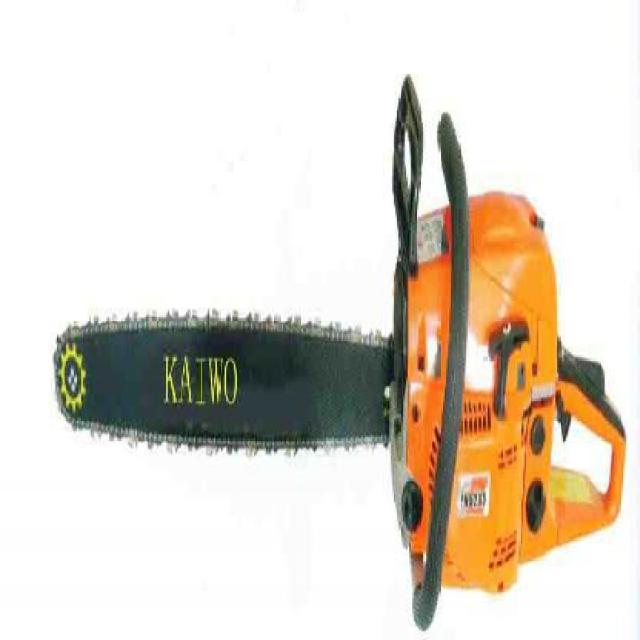Chainsaw: (49, 74, 626, 632)
